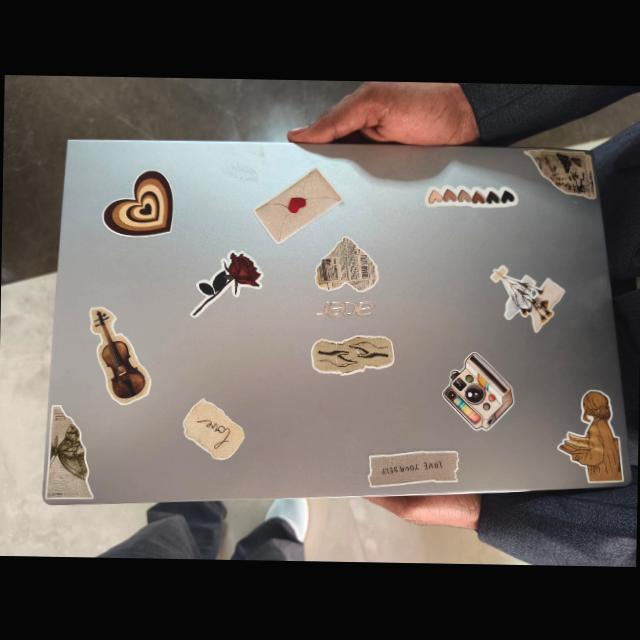laptop: (14, 112, 640, 519)
